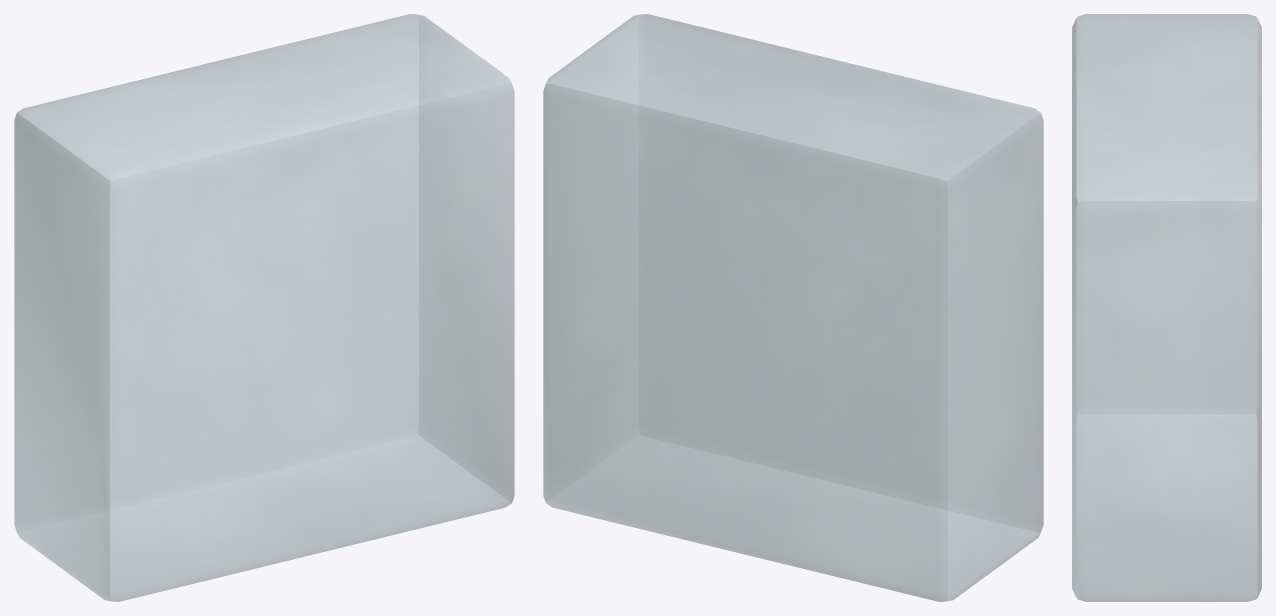
The model's file is ALV-CEL-002.glb.
The picture shows the model from 3 angles, left to right: view 1: azimuth 30°, elevation 25°; view 2: azimuth 150°, elevation 25°; view 3: azimuth 270°, elevation 25°; orthographic projection. The views are drawn at different scales.
Visible parts, largest first — view 1: ALV-CEL-002_corpo; view 2: ALV-CEL-002_corpo; view 3: ALV-CEL-002_corpo.
Part boxes in pixels (x1=…): ALV-CEL-002_corpo: x1=14, y1=14, x2=514, y2=601; ALV-CEL-002_corpo: x1=543, y1=14, x2=1043, y2=601; ALV-CEL-002_corpo: x1=1072, y1=14, x2=1261, y2=601.
Size of the model in its own units: 0.19 by 0.19 by 0.08.
Materials: 1 (1 with a texture image).
